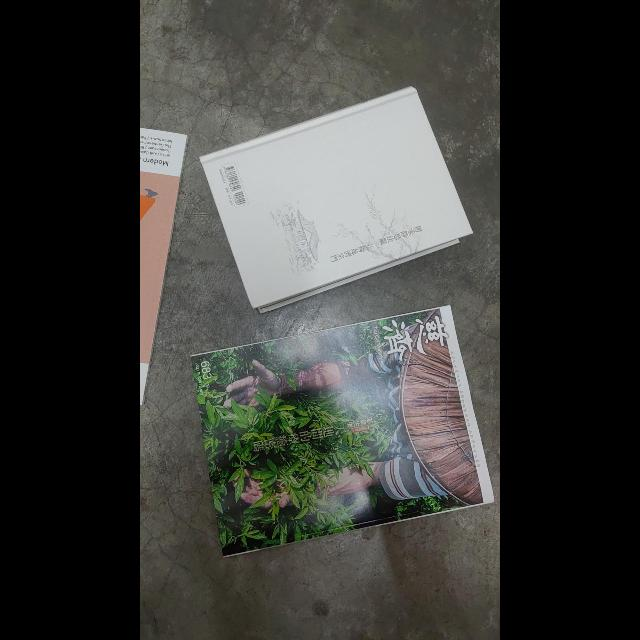papel: (187, 310, 496, 550), (198, 85, 474, 308)
